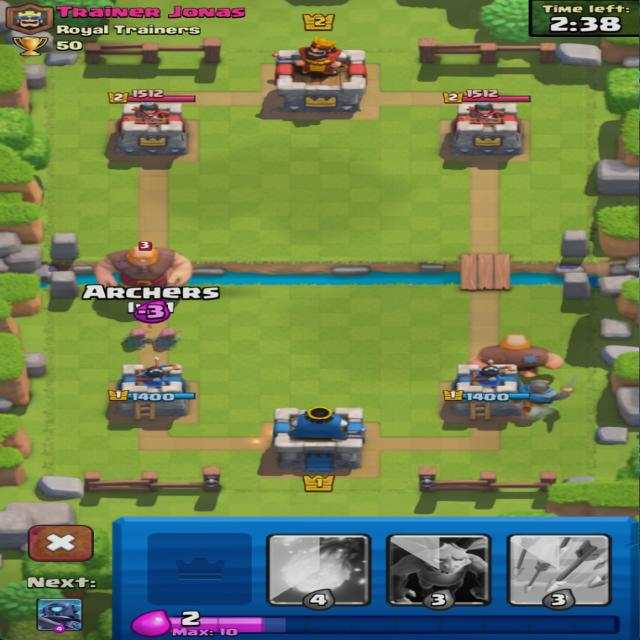2_Elixer: (180, 610, 202, 628)
Archers_Placing: (77, 283, 224, 350)
Arrows_Loading: (504, 533, 612, 612)
Elixer_Bar: (132, 609, 621, 639)
Empty_Card: (148, 532, 254, 606)
Enemy_Giant_Troop: (98, 242, 194, 293)
Fireball_Loading: (268, 534, 372, 611)
Giant_Troop: (473, 333, 560, 376)
Knight_Troop: (513, 374, 580, 412)
Mini_Pekka_Next: (25, 576, 98, 633)
Minions_Loading: (385, 534, 492, 612)
